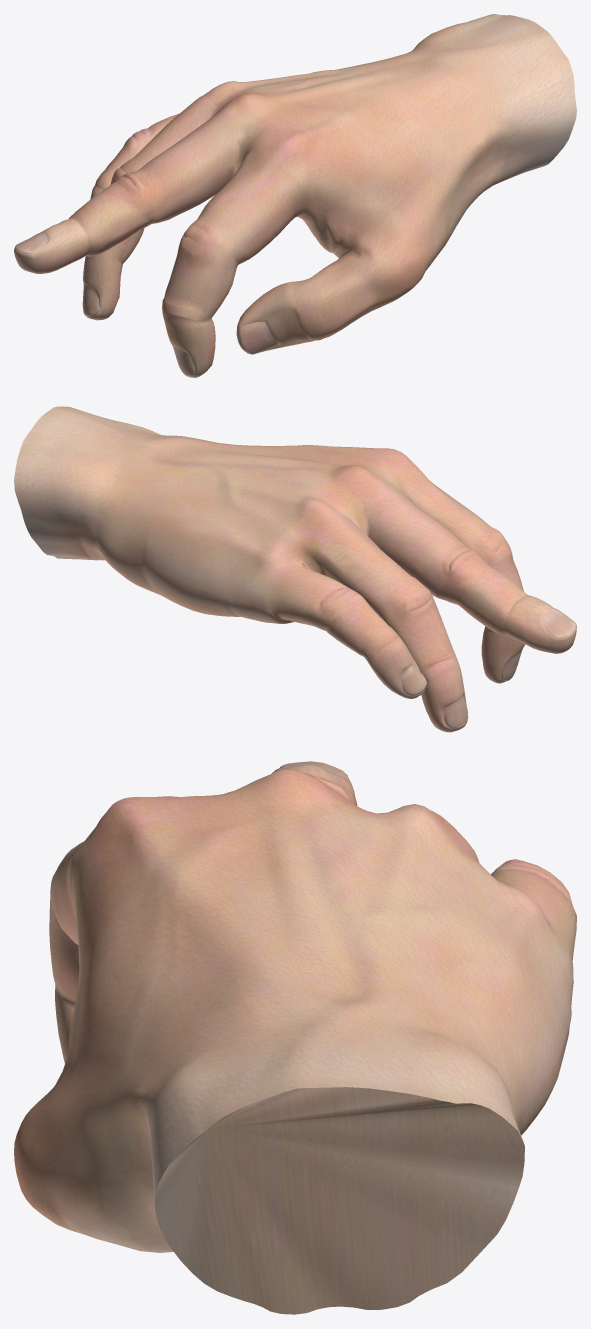
The model's file is hand_19.obj.
3 renders of one model, top to bottom at view 1: azimuth 30°, elevation 25°; view 2: azimuth 150°, elevation 25°; view 3: azimuth 270°, elevation 25°, orthographic. The views are drawn at different scales.
Parts seen in each view (by area): view 1: Figure_2; view 2: Figure_2; view 3: Figure_2.
Part boxes in pixels (bbox=[...]): Figure_2: bbox=[14, 14, 576, 377]; Figure_2: bbox=[14, 406, 576, 732]; Figure_2: bbox=[14, 761, 576, 1314].
Size of the model in its own units: 0.884 by 0.3691 by 0.4102.
2 materials, 2 textured.
